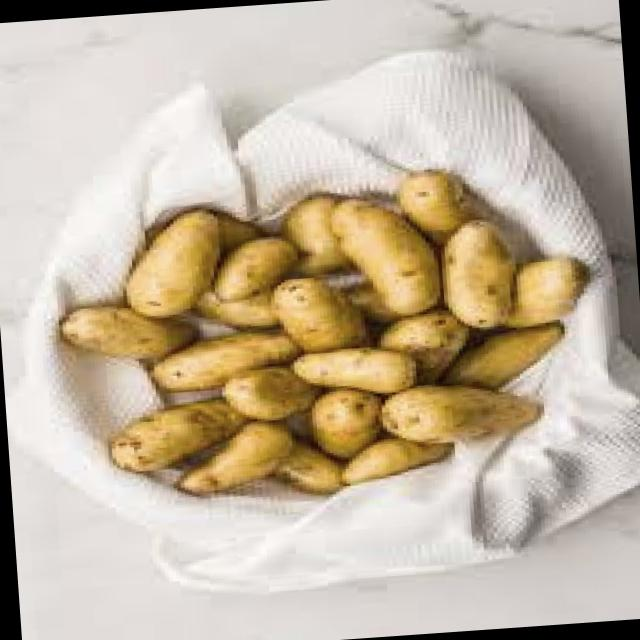Potato: (99, 204, 236, 318), (159, 407, 312, 502), (374, 373, 546, 456), (115, 382, 255, 479), (354, 182, 446, 320), (140, 322, 292, 394), (481, 250, 603, 338), (441, 317, 574, 396), (322, 424, 452, 502), (432, 214, 519, 330), (260, 190, 356, 282), (265, 272, 363, 358), (212, 360, 320, 432), (64, 294, 198, 352), (394, 154, 474, 247), (292, 343, 423, 398), (201, 232, 289, 310), (310, 384, 386, 454), (380, 306, 467, 366)
